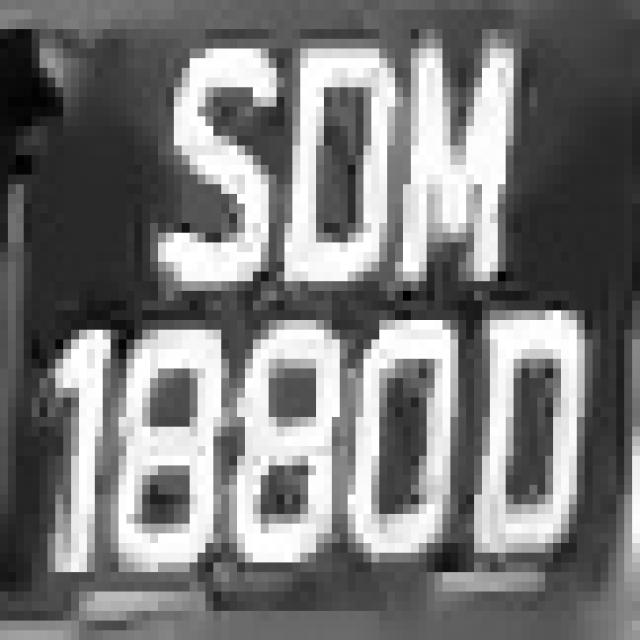0: (364, 272, 458, 592)
1: (32, 281, 102, 611)
8: (221, 272, 348, 572), (95, 320, 237, 582)
D: (450, 291, 592, 582), (284, 0, 395, 310)
M: (395, 20, 545, 282)
S: (150, 29, 285, 310)
